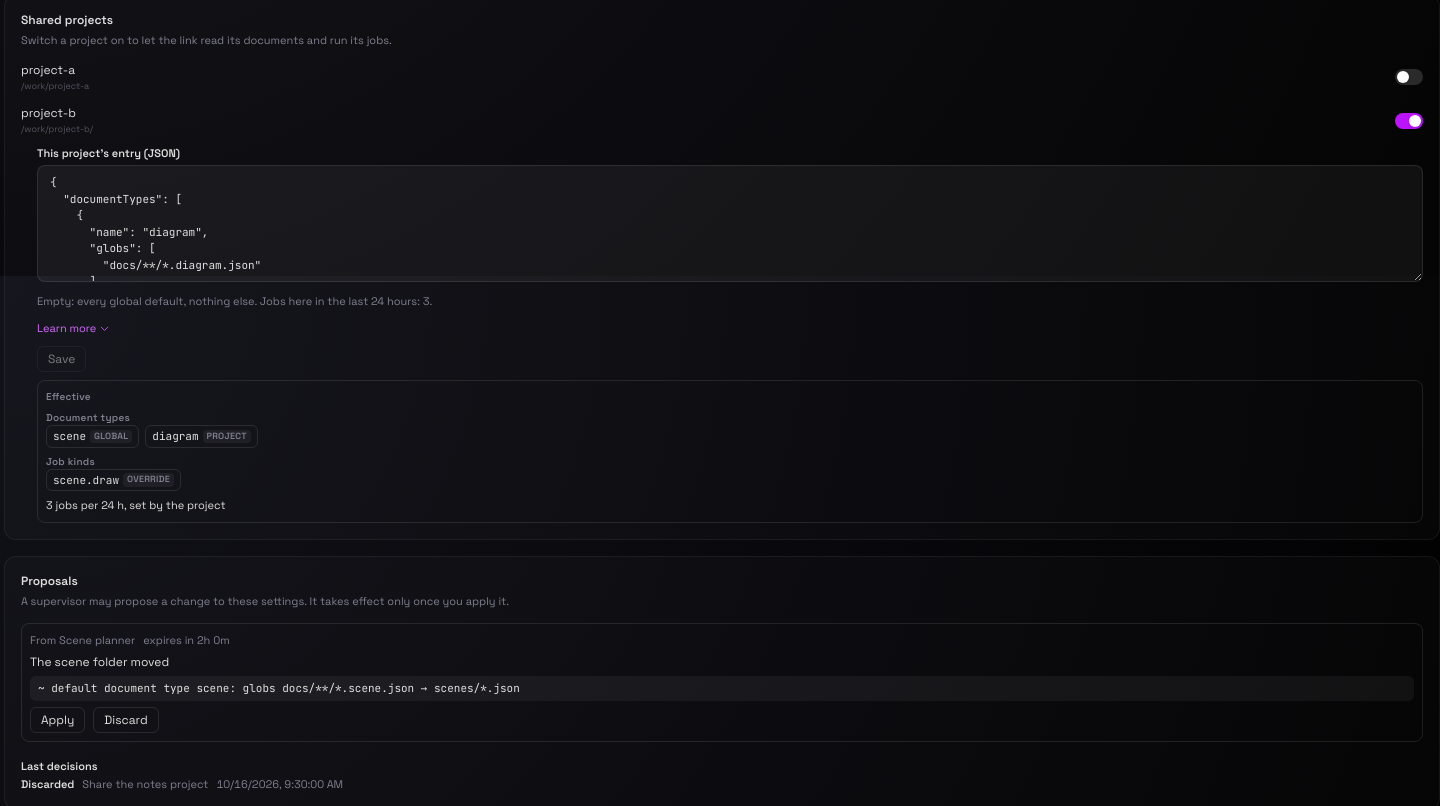
Test case: SupervisorLinkSettings › shows why Rust refused a decision
(page scrolled)
Click the button "Discard" at [126, 720], box top-left (93, 707), bottom-right (159, 733)
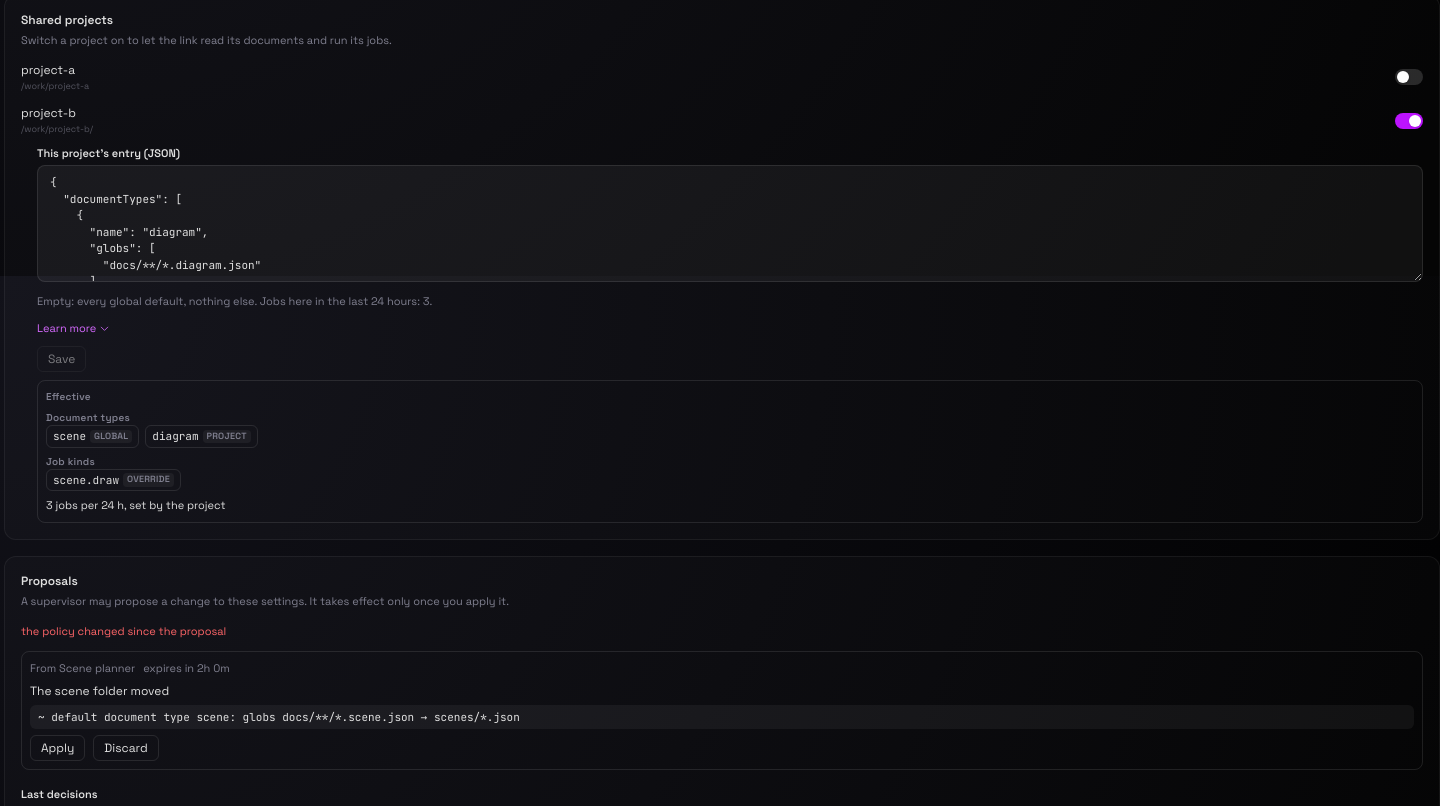
Check: the message shows "policy changed since", box top-left (21, 624), bottom-right (226, 638)
